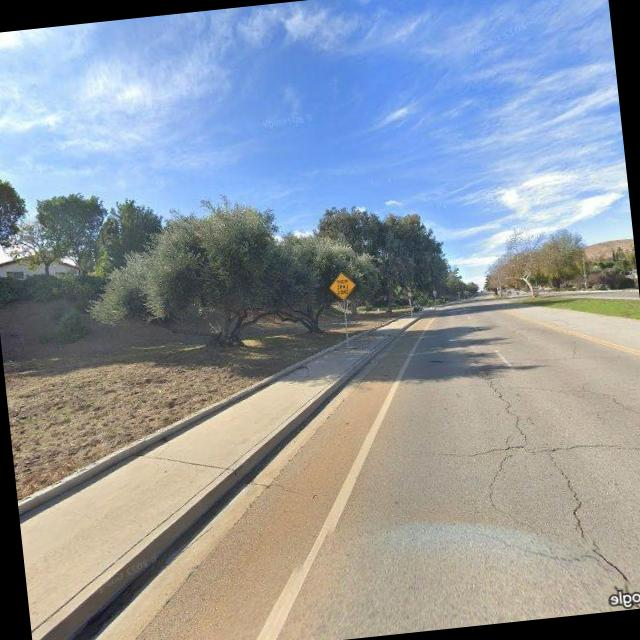crack: (429, 350, 640, 613), (553, 442, 634, 596), (481, 363, 533, 448)
